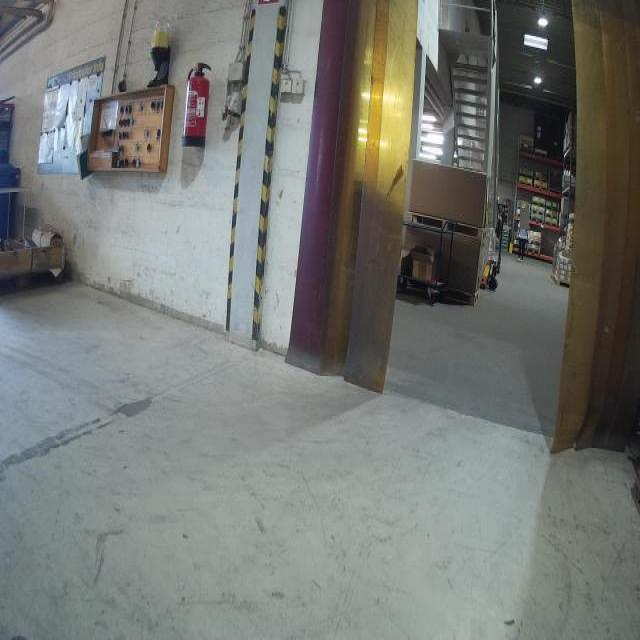pallet: (404, 210, 487, 241), (442, 287, 479, 307), (553, 276, 570, 289), (545, 212, 558, 220), (518, 180, 532, 187), (528, 239, 542, 246), (534, 183, 547, 190), (546, 205, 559, 212), (531, 209, 544, 216), (527, 248, 540, 255), (531, 201, 545, 207), (520, 173, 533, 179), (517, 206, 530, 212), (534, 176, 546, 182)
pallet_truck: (474, 202, 511, 294)
